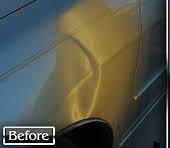dent: (34, 32, 110, 120)
